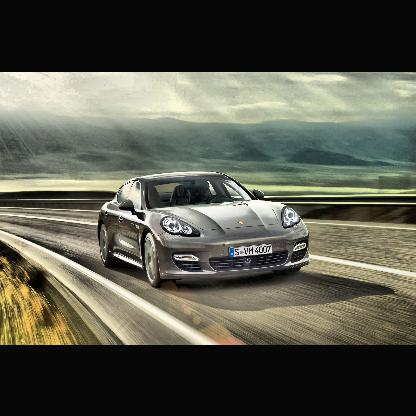Porsche Panamera Sedan 2012: (99, 171, 312, 285)
